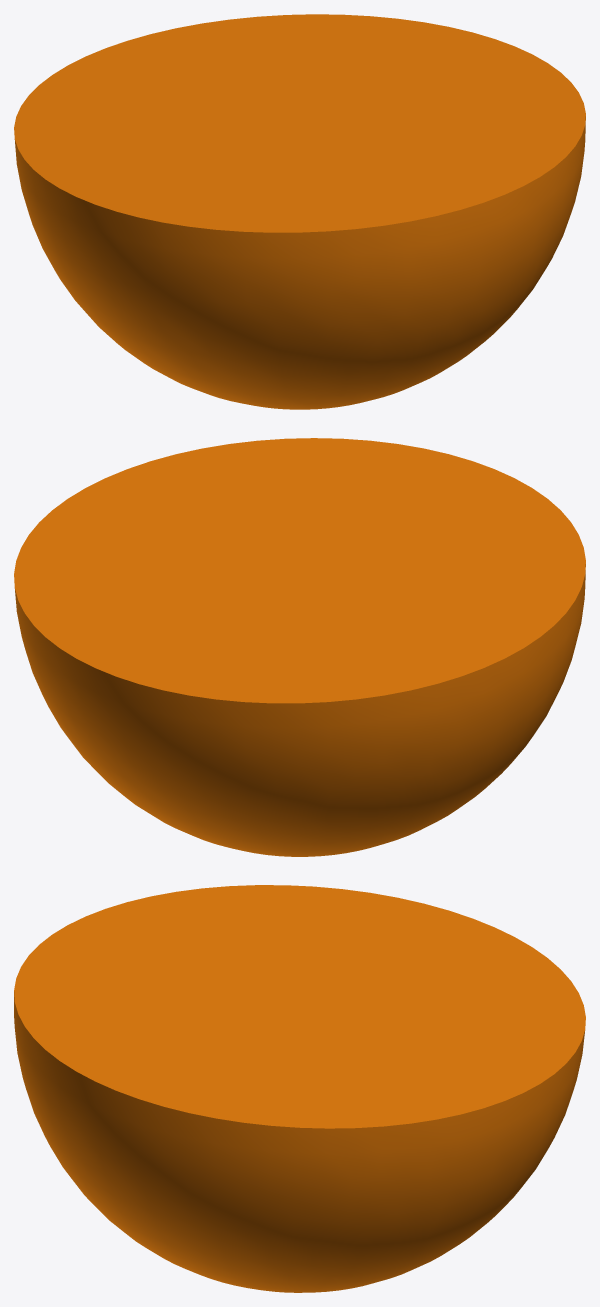
3 renders of one model, top to bottom at view 1: azimuth 30°, elevation 25°; view 2: azimuth 150°, elevation 25°; view 3: azimuth 270°, elevation 25°, orthographic.
Visible parts, largest first — view 1: body; view 2: body; view 3: body.
Part boxes in pixels (x1=…): body: x1=14, y1=14, x2=585, y2=409; body: x1=14, y1=438, x2=585, y2=856; body: x1=14, y1=885, x2=585, y2=1292.
Size of the model in its own units: 0.0799 by 0.0421 by 0.0799.
